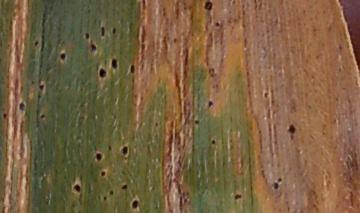tarspot: (287, 122, 296, 142), (203, 1, 213, 12), (120, 144, 128, 156), (98, 68, 107, 78), (94, 152, 103, 162), (128, 64, 136, 75), (131, 199, 139, 210), (99, 25, 106, 37), (59, 52, 68, 61), (110, 58, 117, 69), (18, 101, 25, 112), (233, 193, 242, 201), (83, 31, 91, 40), (72, 184, 81, 192), (89, 43, 97, 51), (273, 181, 279, 191), (38, 83, 45, 91), (207, 100, 214, 108), (262, 90, 269, 98), (120, 183, 128, 190), (111, 27, 117, 36), (2, 112, 8, 121), (141, 1, 146, 11), (214, 20, 220, 27), (33, 39, 39, 46), (38, 113, 45, 119), (99, 171, 106, 177), (210, 138, 216, 145), (154, 120, 159, 128), (277, 176, 283, 182), (107, 144, 112, 151), (193, 119, 200, 124), (108, 190, 113, 196), (102, 195, 107, 201)
